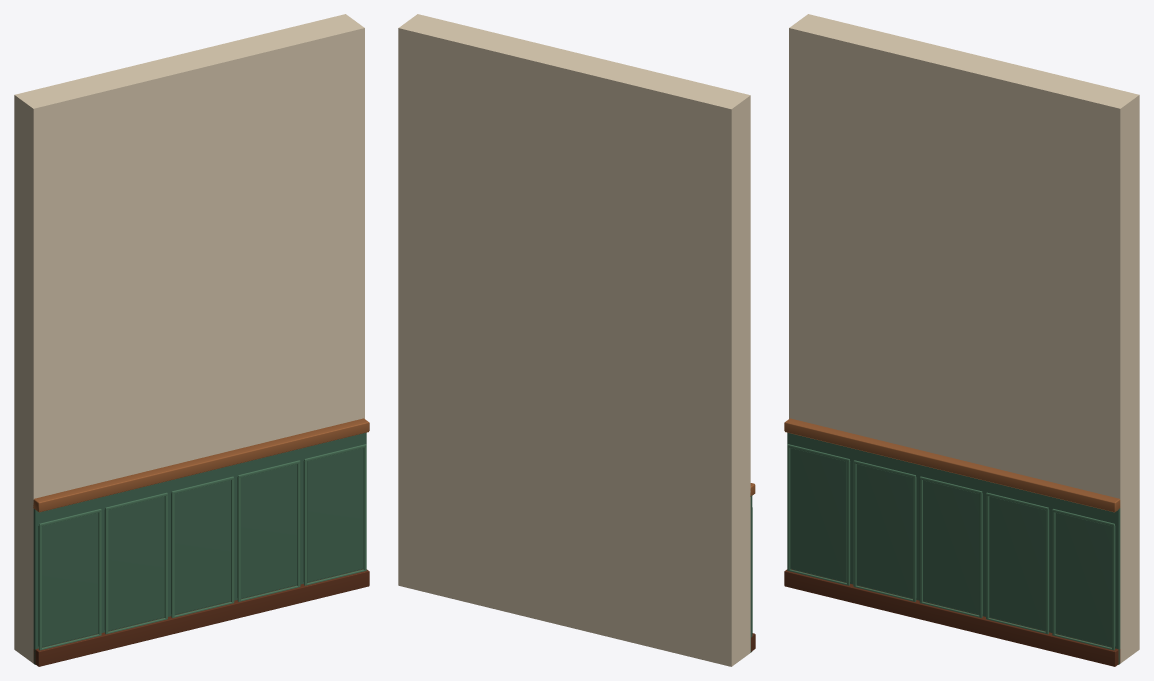
File: wall_module.fbx
3 renders of one model, left to right at view 1: azimuth 30°, elevation 25°; view 2: azimuth 150°, elevation 25°; view 3: azimuth 330°, elevation 25°, orthographic.
Visible parts, largest first — view 1: wall_module; view 2: wall_module; view 3: wall_module.
Boxes of the visible parts, x1,y1,x2,y2 form: wall_module: [14, 14, 369, 666]; wall_module: [398, 14, 755, 666]; wall_module: [784, 14, 1139, 666].
Bounding box in the file's own units: 2 × 3.2 × 0.2545.
